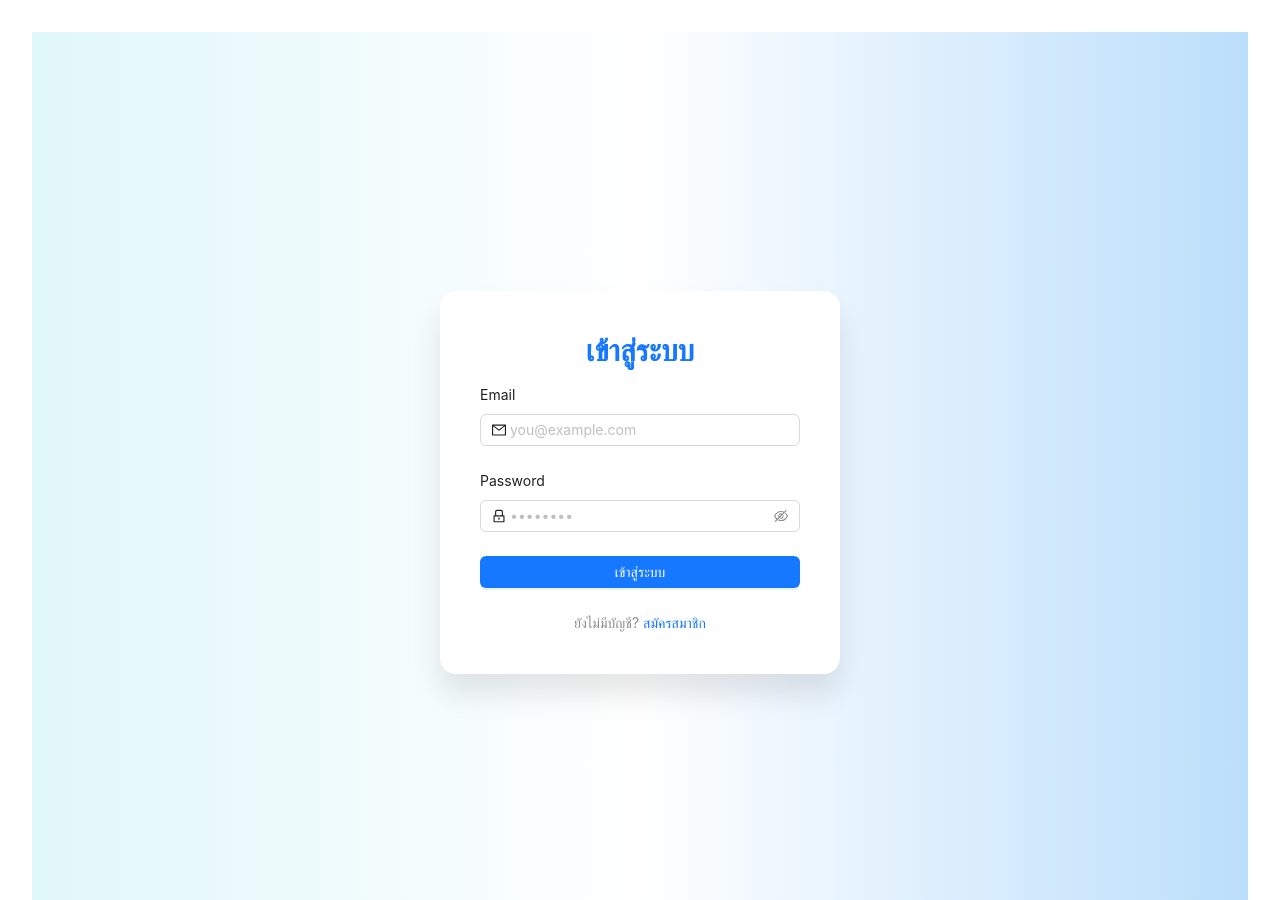
Scenario: Login Component › shows error if login fails (wrong credentials)
Step 1. Type "test@example.com" into the field labelled "Email" → x=649, y=430, box [510, 418, 788, 440]
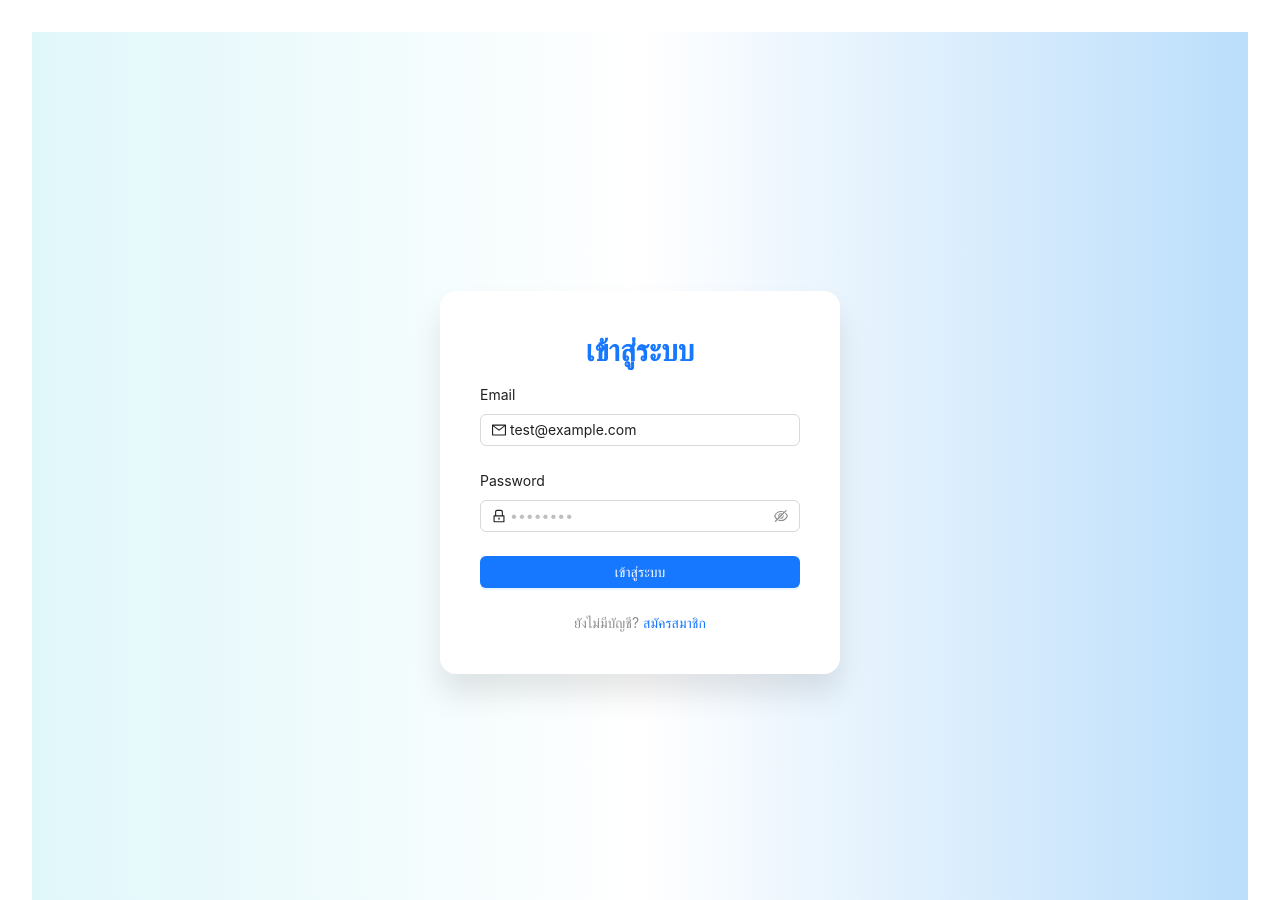
Step 2. Type "123456" into the password field labelled "Password" → x=640, y=516, box [510, 504, 770, 526]
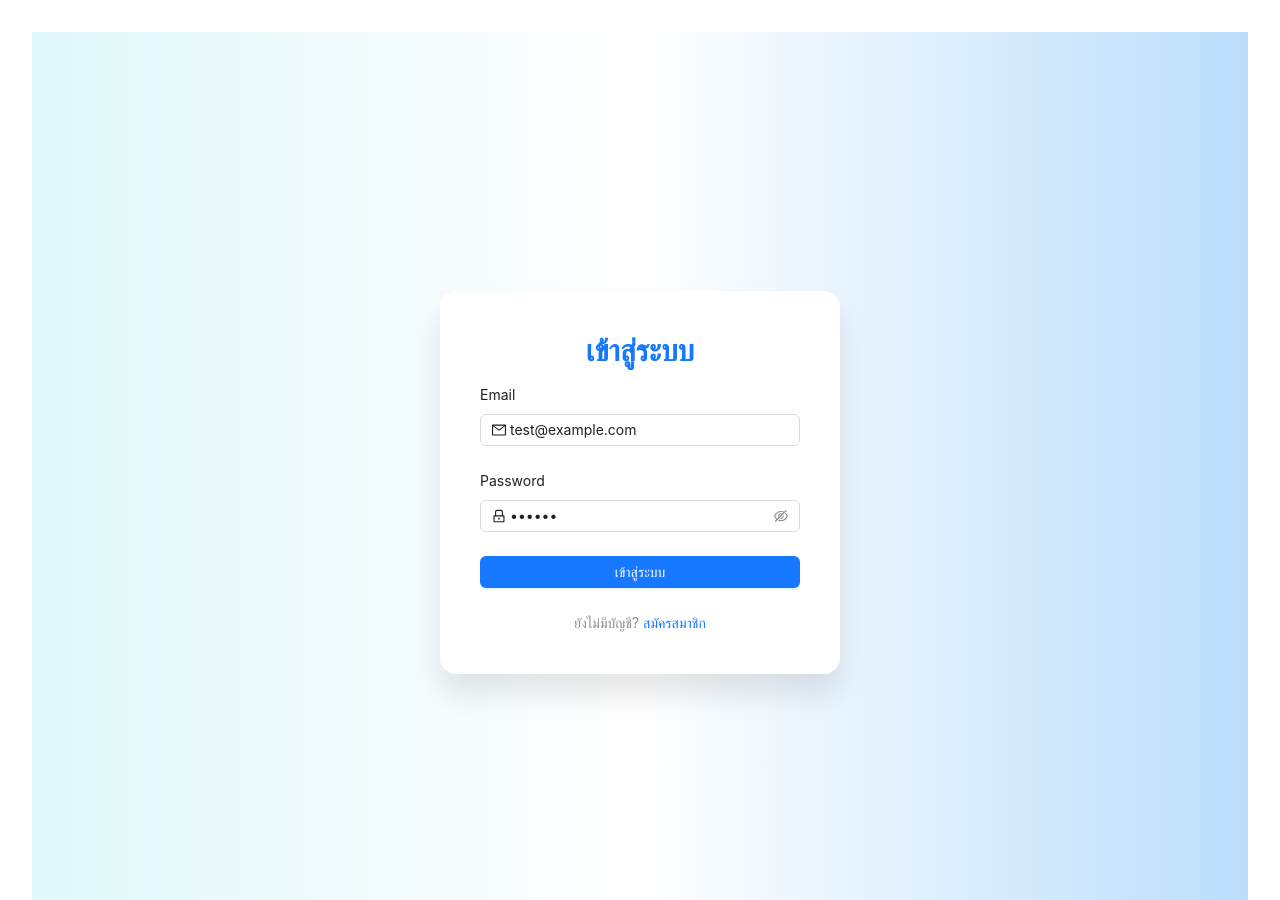
Step 3. Click the button "เข้าสู่ระบบ" → x=640, y=572, box [480, 556, 800, 588]
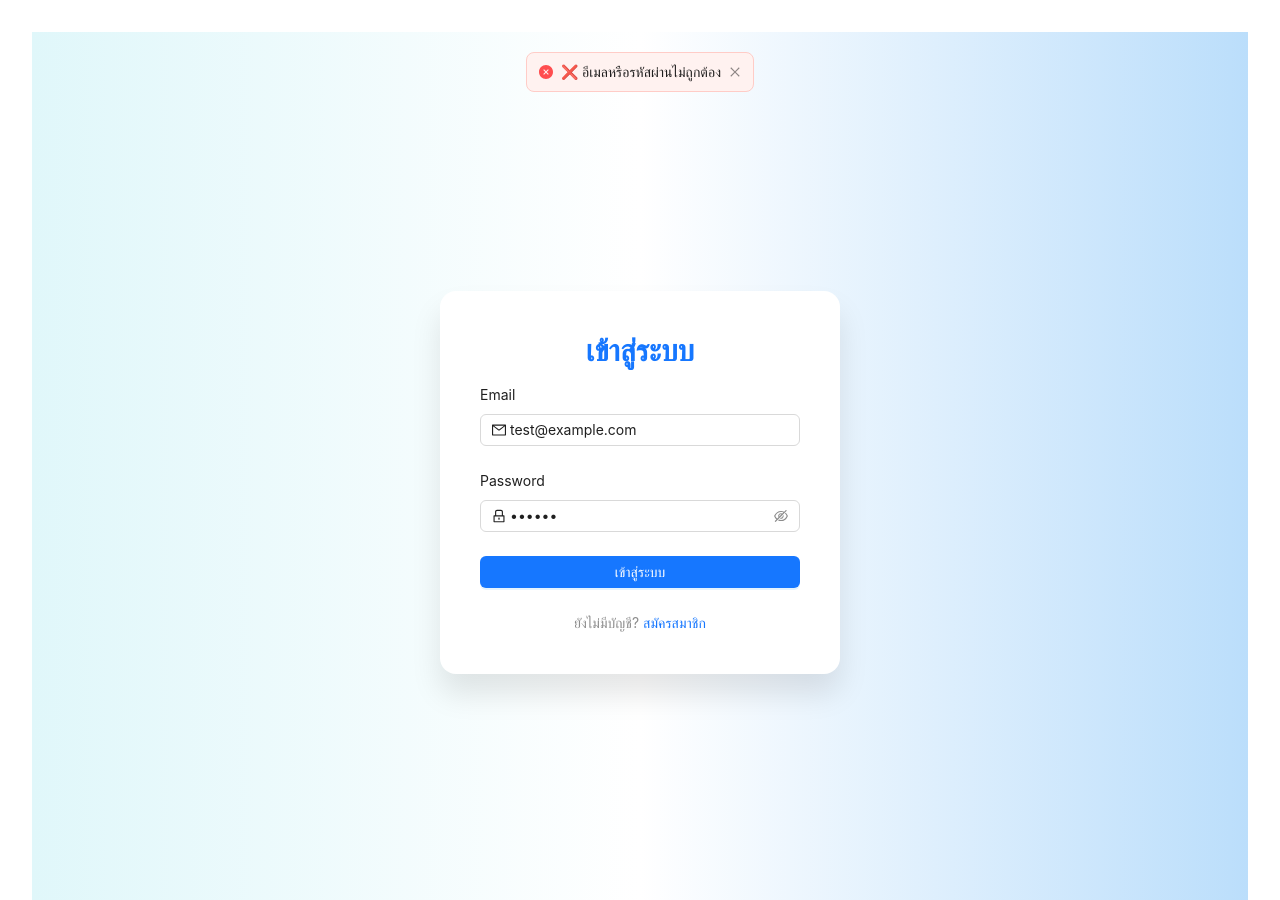
Check: the text "❌ อีเมลหรือรหัสผ่านไม่ถูกต้อง" is shown, box [561, 61, 721, 83]
